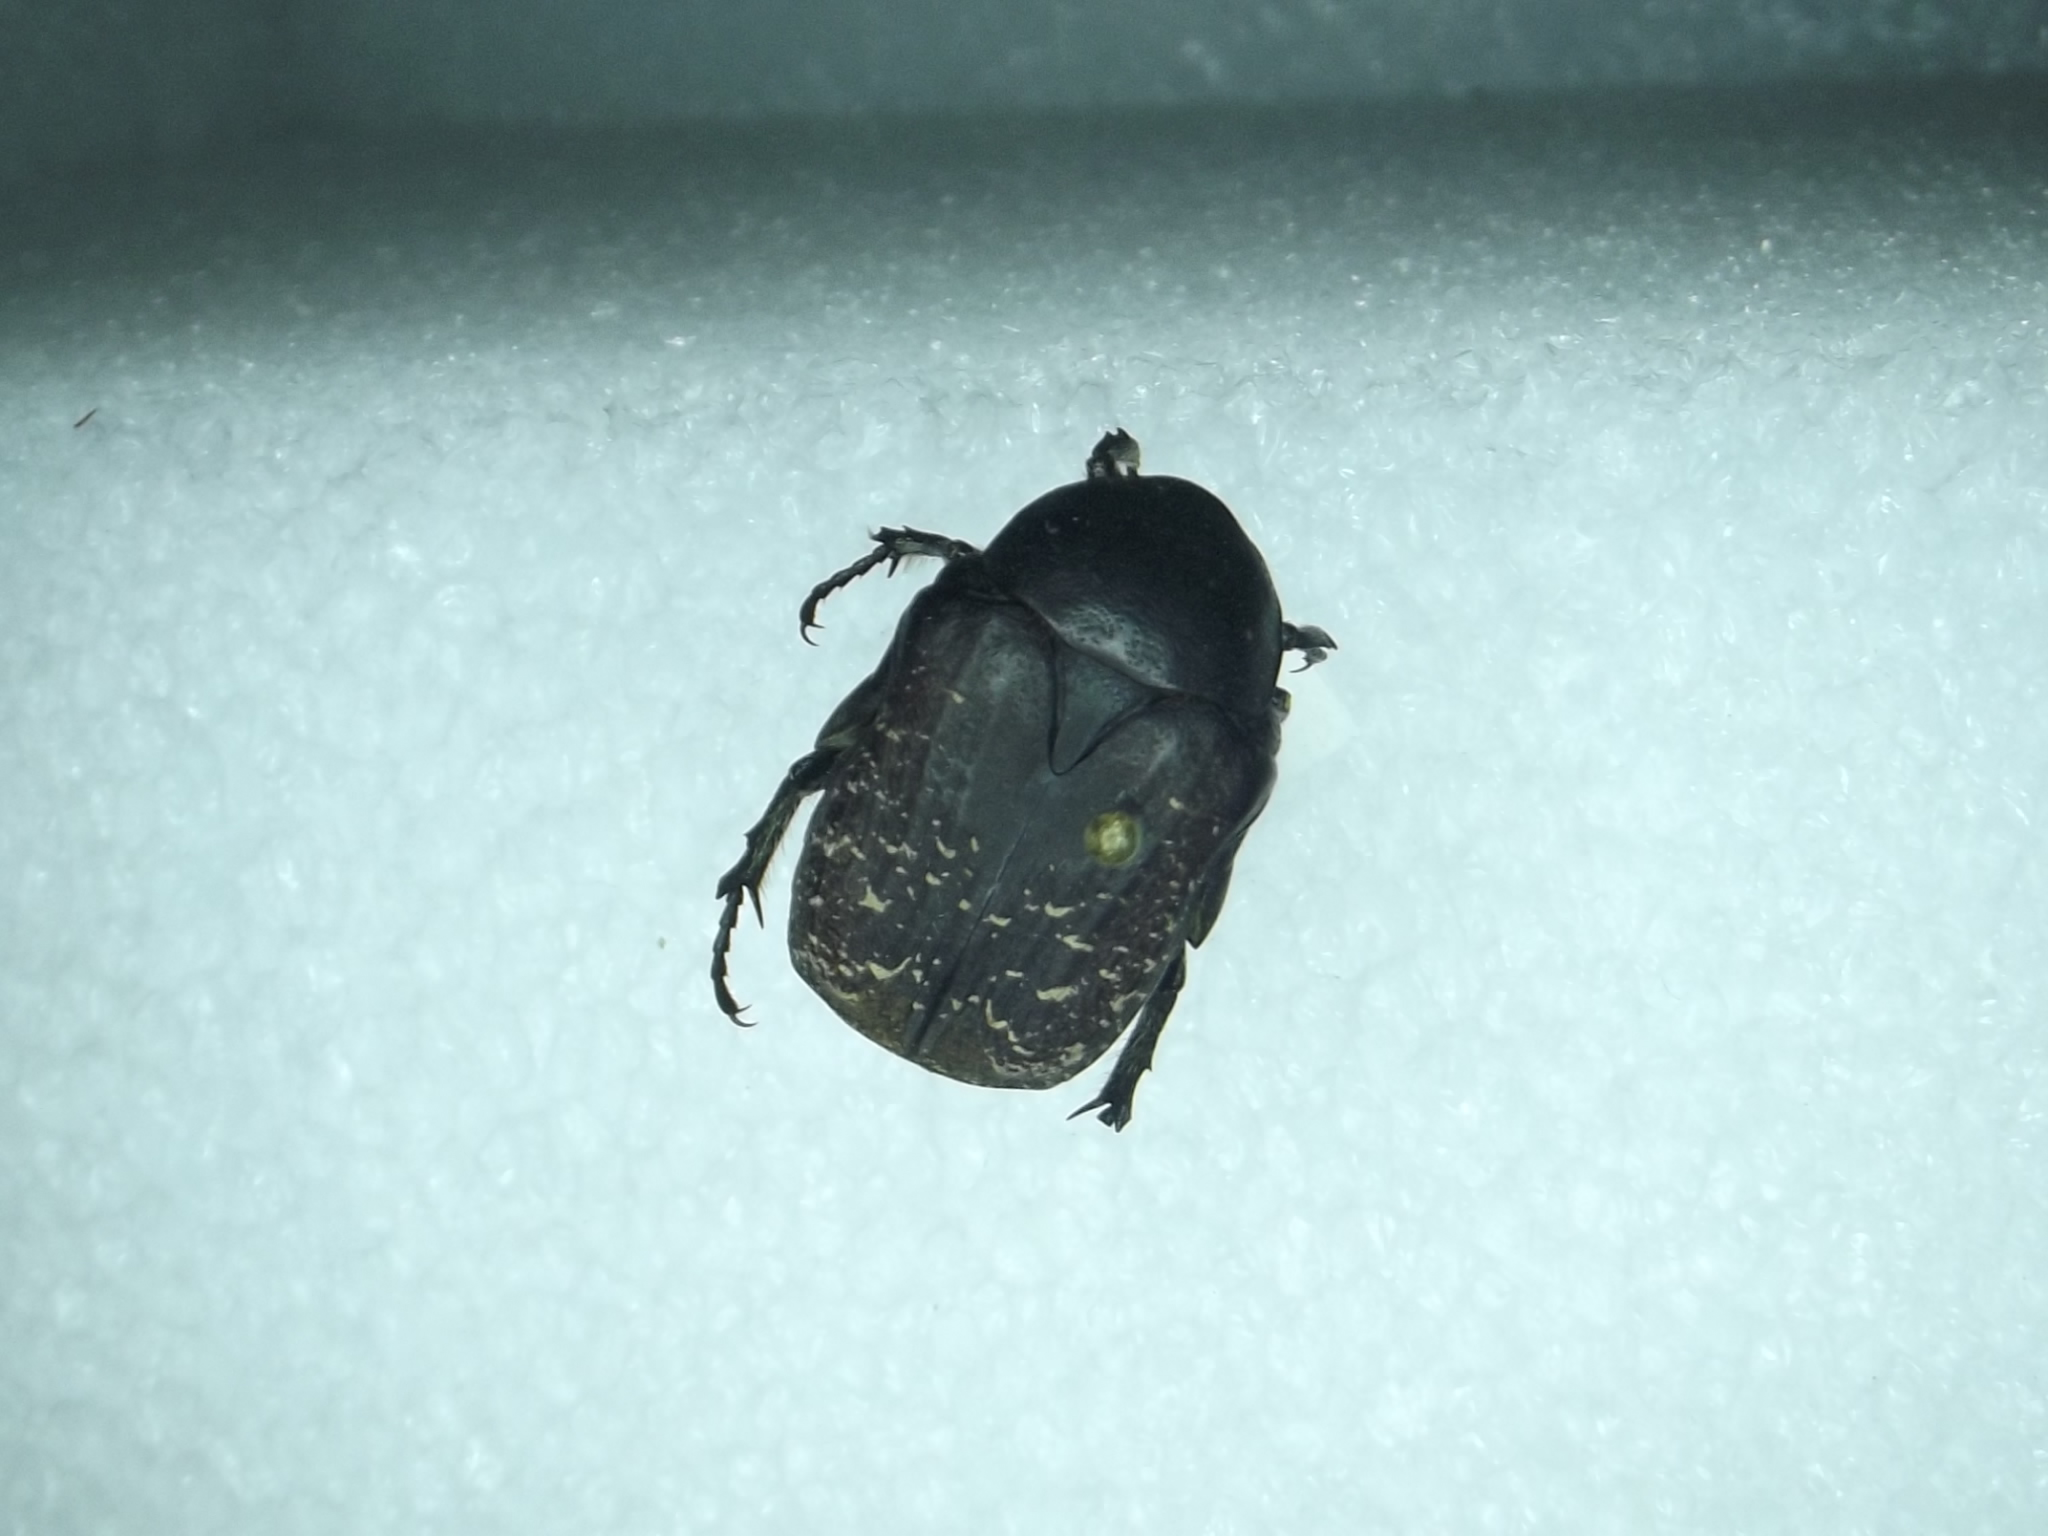Protaetia_oblonga: (695, 405, 1363, 1158)
